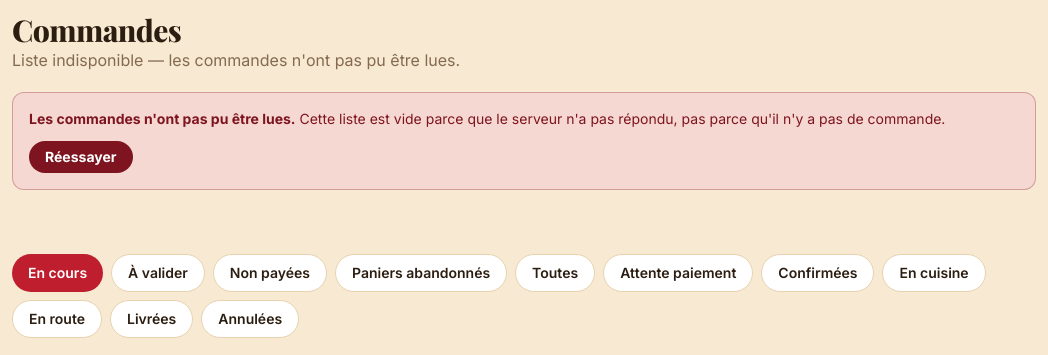
Test case: Commandes — quand la lecture échoue › propose « Réessayer », et la reprise affiche réellement les commandes
Click the button "Réessayer" at (81, 157), box [29,141,132,173]
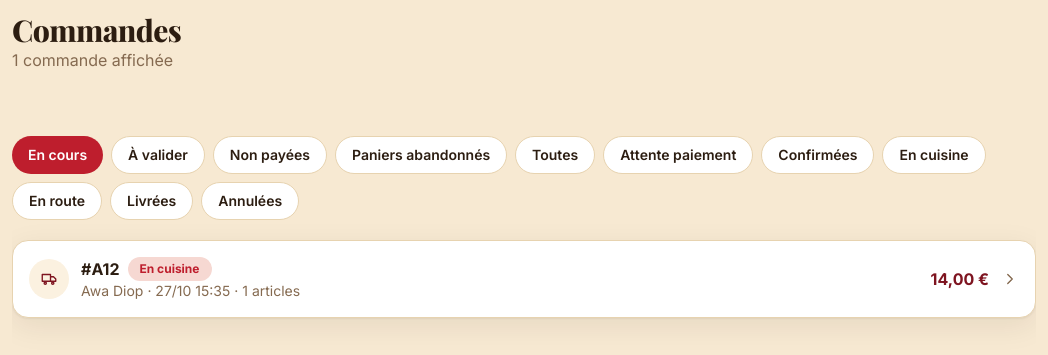
Result: the text "#A12" is shown at [81,257,120,281]
Result: the text "Liste indisponible — les commandes n'ont pas pu être lues." is gone
Result: the message "Les commandes n'ont pas pu être lues. Cette liste est vide parce que le serveur" is gone
